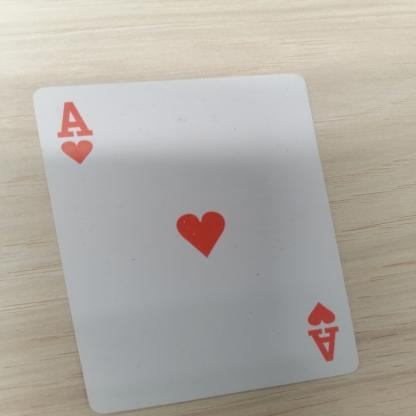AH: (288, 287, 356, 378), (52, 91, 104, 176)
